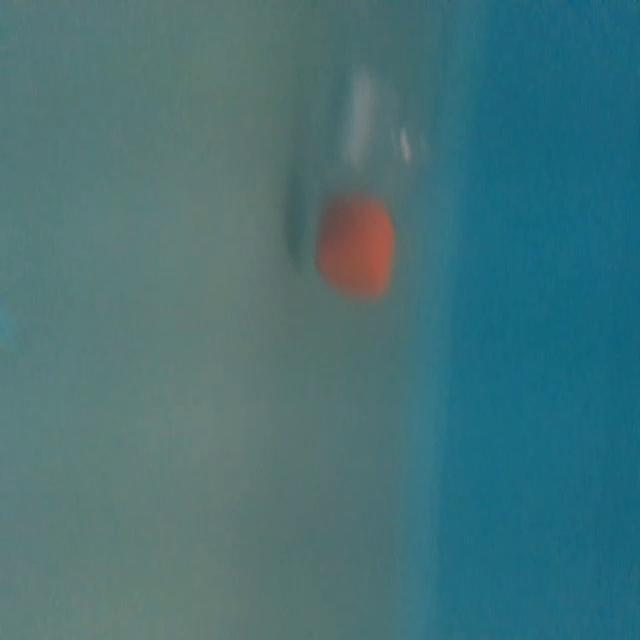plastic bottle: (303, 0, 448, 307)
